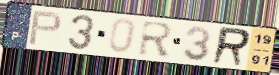0: (106, 17, 138, 56)
3: (65, 13, 96, 52), (182, 25, 214, 62)
P: (26, 10, 63, 47)
R: (209, 25, 253, 68), (137, 19, 175, 59)
